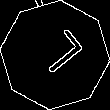L_SW: (26, 27, 84, 83)
